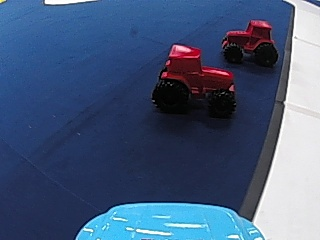tractor: (150, 40, 240, 118), (219, 18, 280, 66)
